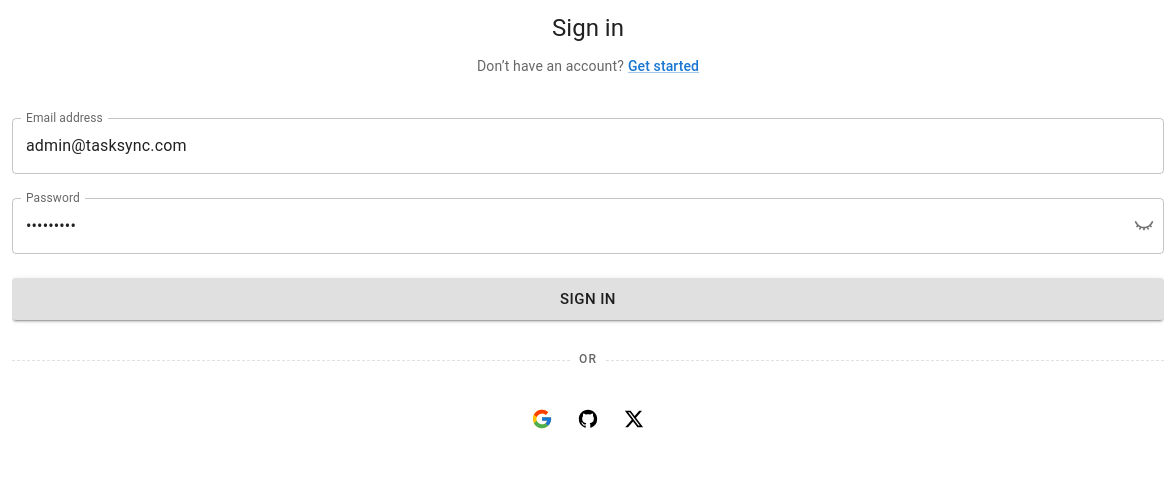
Test: <SignInView /> › shows error on failed login
The image size is (1176, 480).
Click the button "Sign in" at (588, 299), box 12,278 -> 1164,320
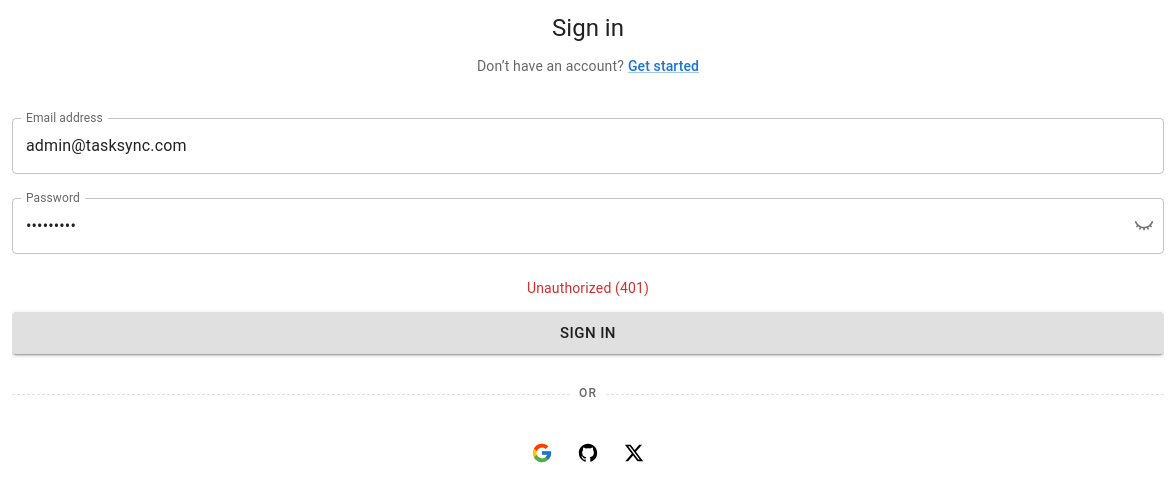
Expected: the text "Unauthorized (401)" is shown, 527,278 -> 649,298
